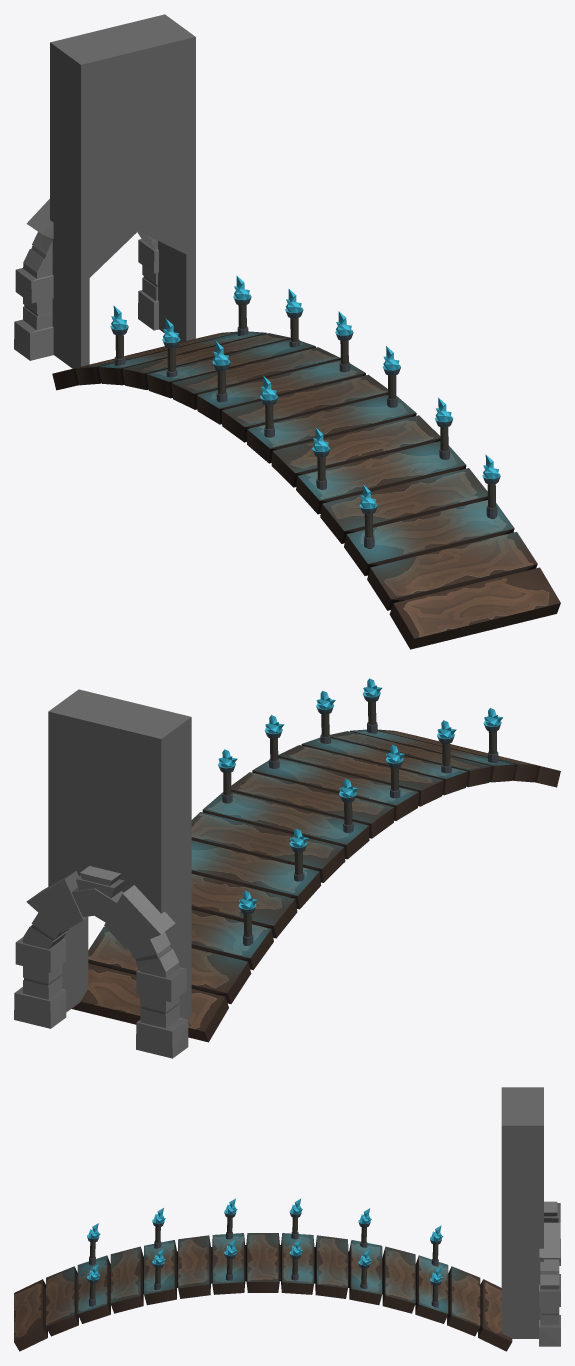
Rendered from DoorFrameTall.obj.
The picture shows the model from 3 angles, top to bottom: view 1: azimuth 30°, elevation 25°; view 2: azimuth 150°, elevation 25°; view 3: azimuth 270°, elevation 25°; orthographic projection. The views are drawn at different scales.
Visible parts, largest first — view 1: DoorFrameTall1; view 2: DoorFrameTall1; view 3: DoorFrameTall1.
Boxes of the visible parts, left/top/right/bottom form: DoorFrameTall1: left=14, top=14, right=560, bottom=649; DoorFrameTall1: left=14, top=678, right=560, bottom=1058; DoorFrameTall1: left=14, top=1087, right=560, bottom=1351.
Bounding box in the file's own units: 13.96 × 26.72 × 59.6.
